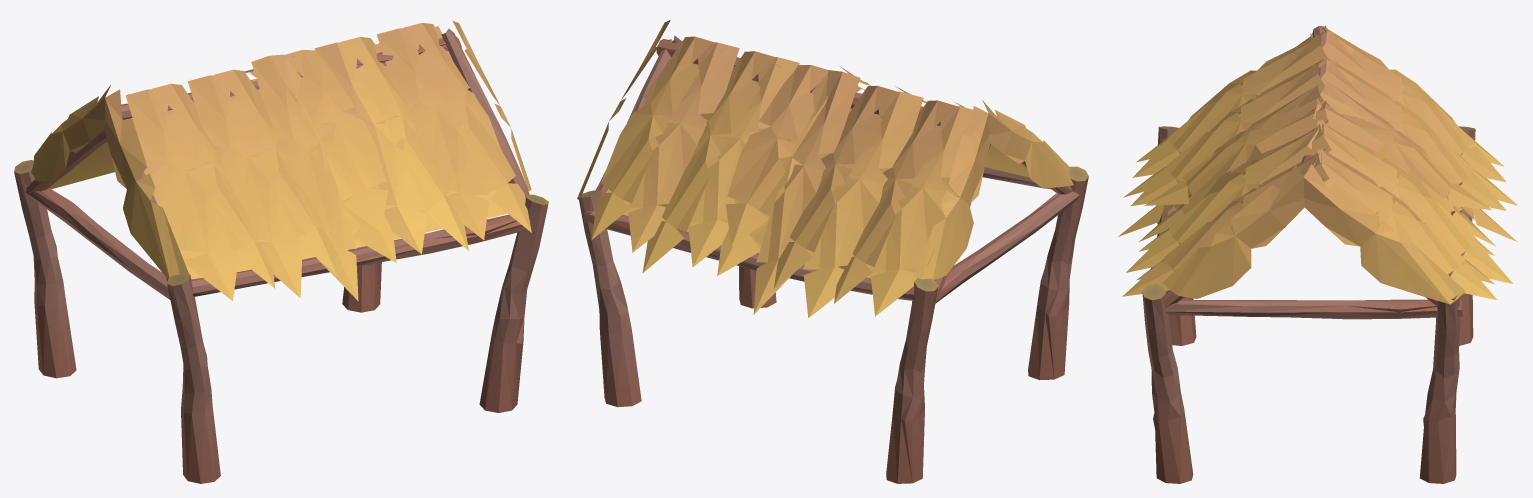
The picture shows the model from 3 angles, left to right: view 1: azimuth 30°, elevation 25°; view 2: azimuth 150°, elevation 25°; view 3: azimuth 270°, elevation 25°; orthographic projection. The views are drawn at different scales.
Visible parts, largest first — view 1: TropicalBuildingOpen; view 2: TropicalBuildingOpen; view 3: TropicalBuildingOpen.
Part boxes in pixels (box(x1,y1,x2,y2)): TropicalBuildingOpen: box(14, 20, 548, 483); TropicalBuildingOpen: box(577, 20, 1088, 483); TropicalBuildingOpen: box(1118, 25, 1517, 483).
Size of the model in its own units: 294 by 250 by 284.
1 material, 1 textured.
